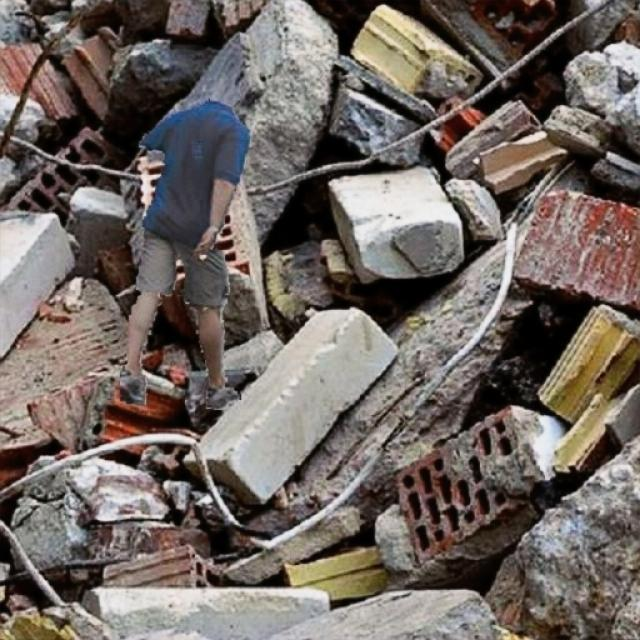Person in Rubble: (120, 99, 250, 409)
